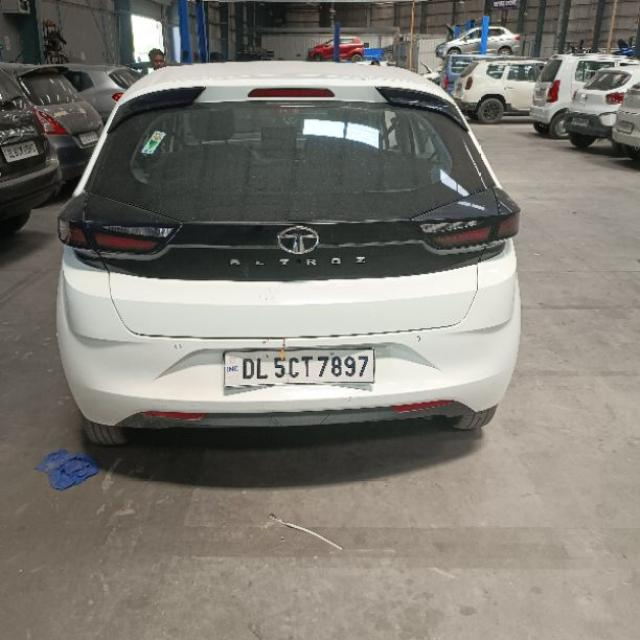license_plate: (222, 346, 375, 389)
